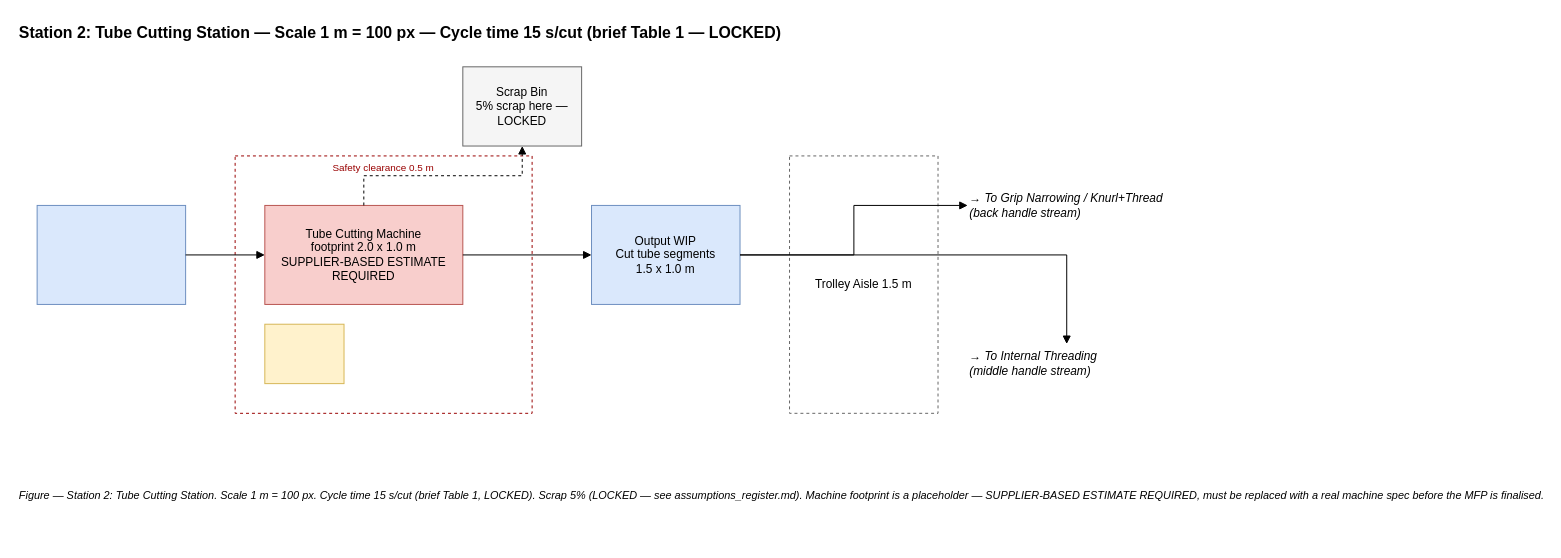
Some shapes in this 1561 by 558 pixel diagram are drawn without their labels. Each missing label, with the centre of its shape:
Input WIP Raw tube staging (from RM store) 1.5 x 1.0 m: the point at 111,254
Operator zone 0.8 x 1.0 m: the point at 304,353
